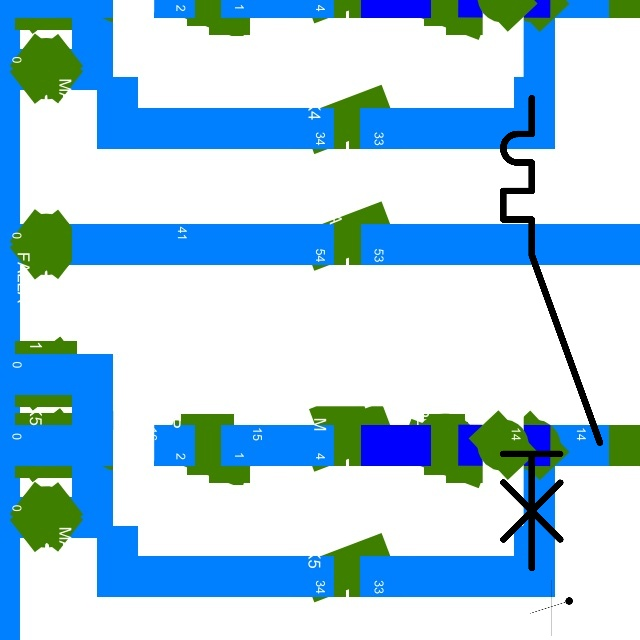interruptor_termomagnetico: (491, 86, 612, 580)
